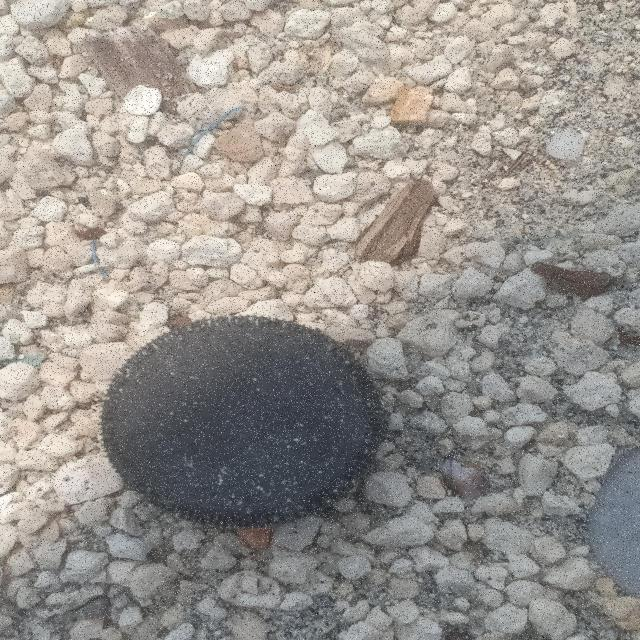plastic_waste: (102, 317, 389, 531)
